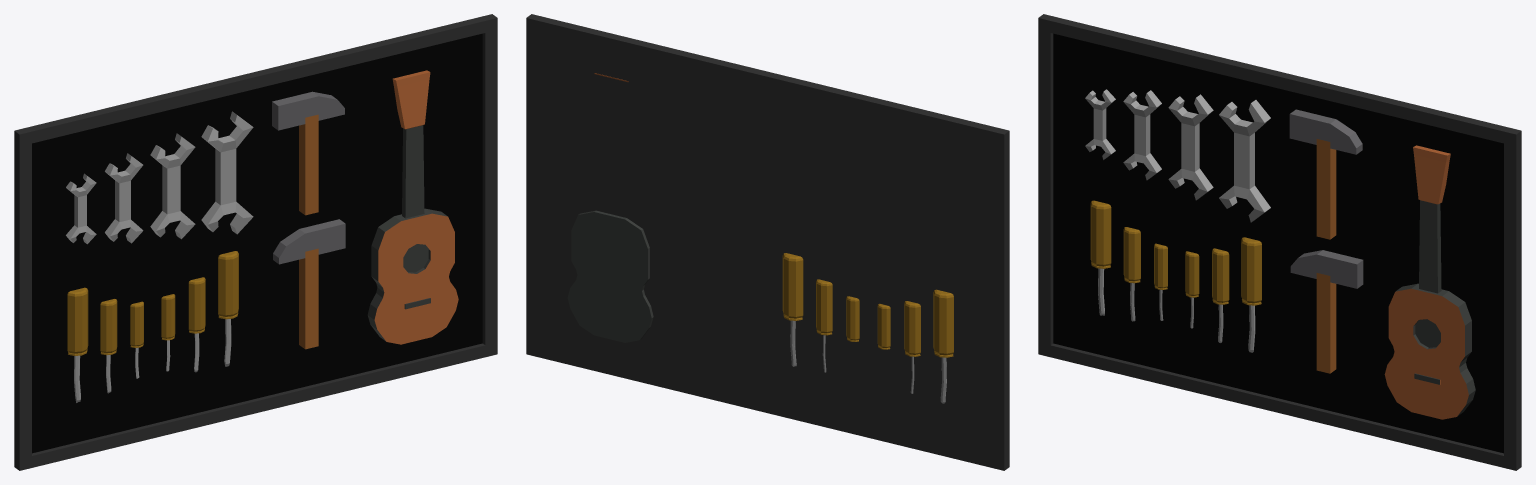
The model's file is Tools.fbx.
3 views of the same model, side by side, from view 1: azimuth 30°, elevation 25°; view 2: azimuth 150°, elevation 25°; view 3: azimuth 330°, elevation 25° (orthographic).
Visible parts, largest first — view 1: Cube.001, Cube.004, Cube.008, Cube.003, Cube.007, Cube.006, Cylinder, Cylinder.004, Cube.005, Cylinder.005, Cylinder.002, Cube.002 (+2 smaller); view 2: Cube.001, Cube.004, Cylinder.004, Cylinder, Cylinder.002, Cylinder.005, Cylinder.003, Cylinder.006; view 3: Cube.001, Cube.004, Cube.003, Cube.008, Cube.007, Cube.006, Cylinder, Cube.005, Cylinder.004, Cylinder.002, Cylinder.005, Cube.002 (+2 smaller).
Part boxes in pixels (x1,y1,x2,y2): Cube.001: (14,14,497,470); Cube.004: (367,70,458,344); Cube.008: (273,219,345,349); Cube.003: (272,91,344,215); Cube.007: (201,111,253,234); Cube.006: (150,133,195,239); Cylinder: (67,287,88,402); Cylinder.004: (218,251,238,366); Cube.005: (105,153,143,243); Cylinder.005: (188,277,205,372); Cylinder.002: (100,299,117,393); Cube.002: (66,173,96,244); Cube.001: (526,14,1009,470); Cube.004: (567,73,653,342); Cylinder.004: (782,253,803,366); Cylinder: (933,289,953,403); Cylinder.002: (904,301,920,393); Cylinder.005: (816,279,832,372); Cylinder.003: (877,303,890,349); Cylinder.006: (846,296,859,341); Cube.001: (1038,14,1521,470); Cube.004: (1384,145,1475,419); Cube.003: (1289,109,1362,239); Cube.008: (1290,250,1363,373); Cube.007: (1219,100,1270,222); Cube.006: (1168,94,1213,200); Cylinder: (1090,200,1111,315); Cube.005: (1123,90,1161,180); Cylinder.004: (1241,237,1261,352); Cylinder.002: (1123,227,1140,321); Cylinder.005: (1212,248,1229,342); Cube.002: (1085,89,1115,159).
Bounding box in the file's own units: 1024 × 688 × 54.62.
